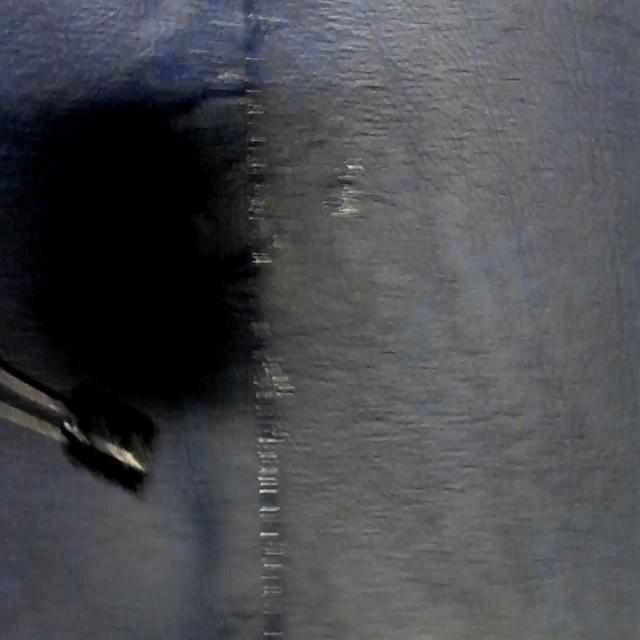capacitor: (0, 360, 158, 496)
